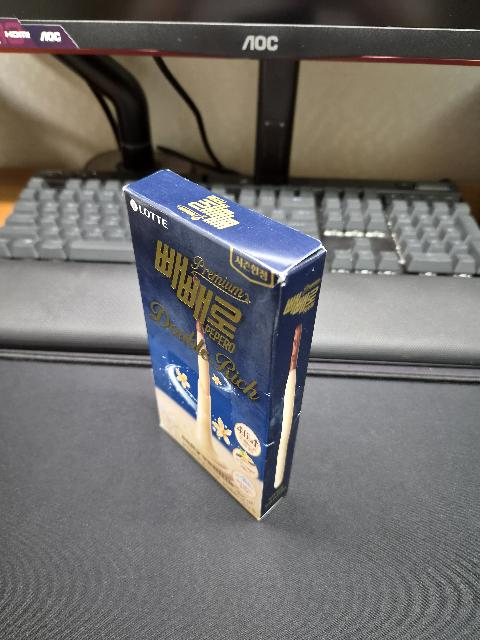pepero: (122, 169, 327, 521)
